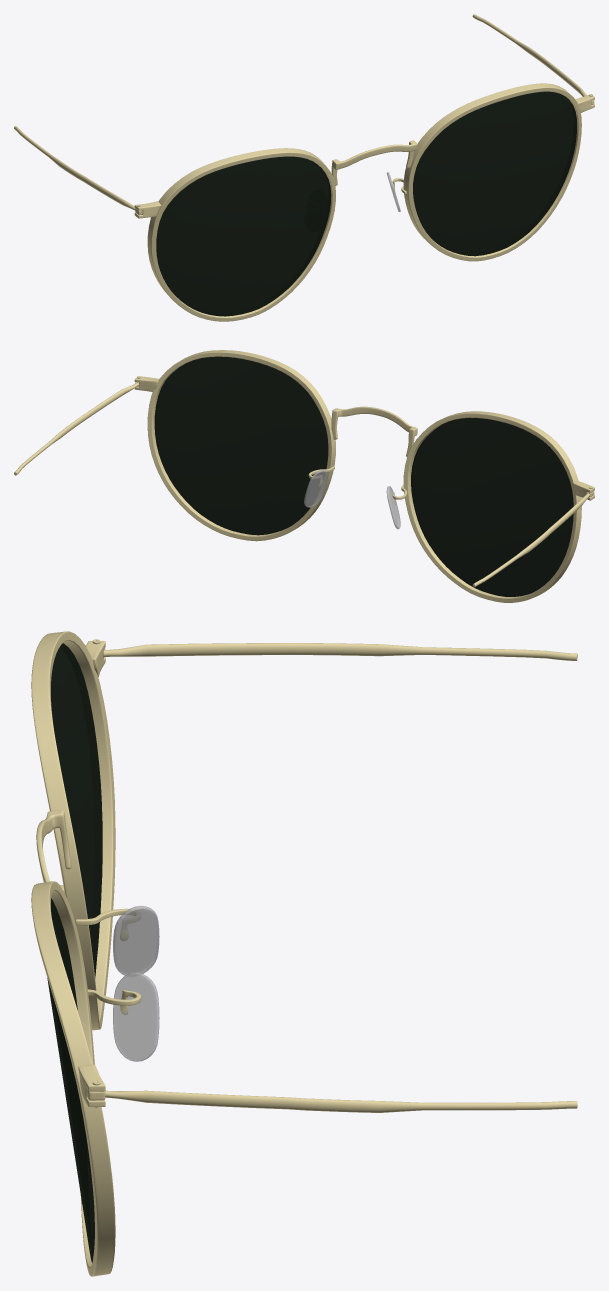
The model's file is round_APP_10072020.glb.
3 views of the same model, one above another, from view 1: azimuth 30°, elevation 25°; view 2: azimuth 150°, elevation 25°; view 3: azimuth 270°, elevation 25° (orthographic). The views are drawn at different scales.
Visible parts, largest first — view 1: lentes, armacao; view 2: lentes, armacao, ponte; view 3: armacao, lentes, ponte.
Boxes of the visible parts, x1,y1,x2,y2 form: lentes: [156, 91, 576, 316]; armacao: [14, 14, 594, 321]; lentes: [154, 356, 573, 596]; armacao: [14, 350, 594, 602]; ponte: [304, 470, 400, 529]; armacao: [31, 631, 577, 1276]; lentes: [47, 643, 102, 1262]; ponte: [113, 906, 159, 1061].
Size of the model in its own units: 0.1575 by 0.0555 by 0.079.
